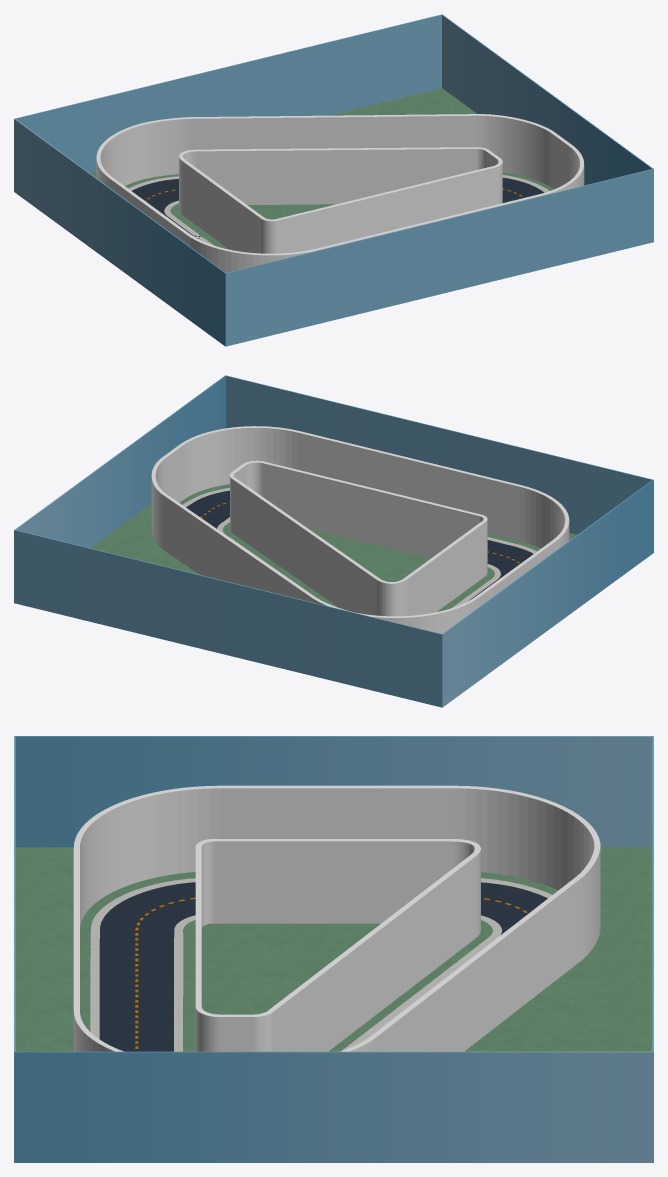
3 views of the same model, one above another, from view 1: azimuth 30°, elevation 25°; view 2: azimuth 150°, elevation 25°; view 3: azimuth 270°, elevation 25° (orthographic). The views are drawn at different scales.
Parts seen in each view (by area): view 1: wall, inner_walls, outer_walls, field, road; view 2: wall, outer_walls, inner_walls, field, road; view 3: wall, outer_walls, field, inner_walls, road, il, ol.
Boxes of the visible parts, x1,y1,x2,y2 form: wall: (14, 14, 653, 346); inner_walls: (179, 147, 502, 253); outer_walls: (96, 114, 584, 272); field: (91, 88, 553, 249); road: (132, 177, 544, 235); wall: (14, 375, 653, 707); outer_walls: (151, 426, 569, 633); inner_walls: (230, 460, 487, 616); field: (91, 484, 576, 611); road: (186, 490, 533, 600); wall: (14, 736, 653, 1162); outer_walls: (73, 785, 600, 1051); field: (15, 847, 652, 1051); inner_walls: (195, 839, 480, 1051); road: (99, 882, 547, 1051); il: (174, 915, 501, 1051); ol: (90, 878, 551, 1039).
Bounding box in the file's own units: 6.13 × 5.25 × 1.
7 materials, 7 textured.
